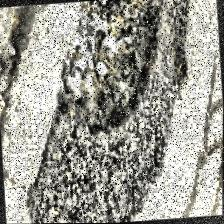pothole: (48, 0, 174, 140)
